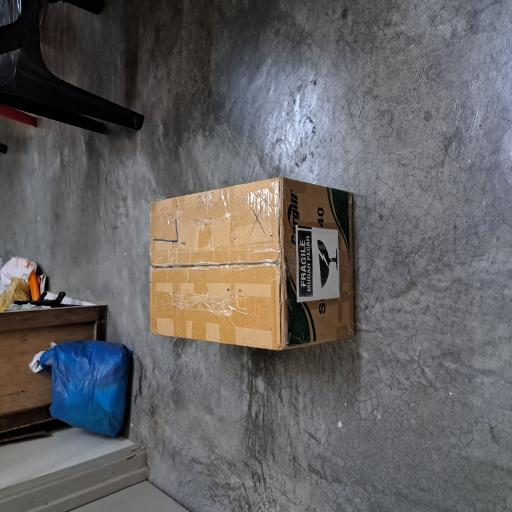cardboard: (121, 196, 253, 472)
plastic bag: (56, 57, 132, 174)
